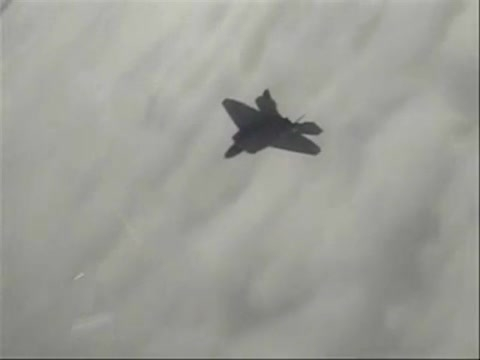aeroplane: (221, 89, 324, 159)
